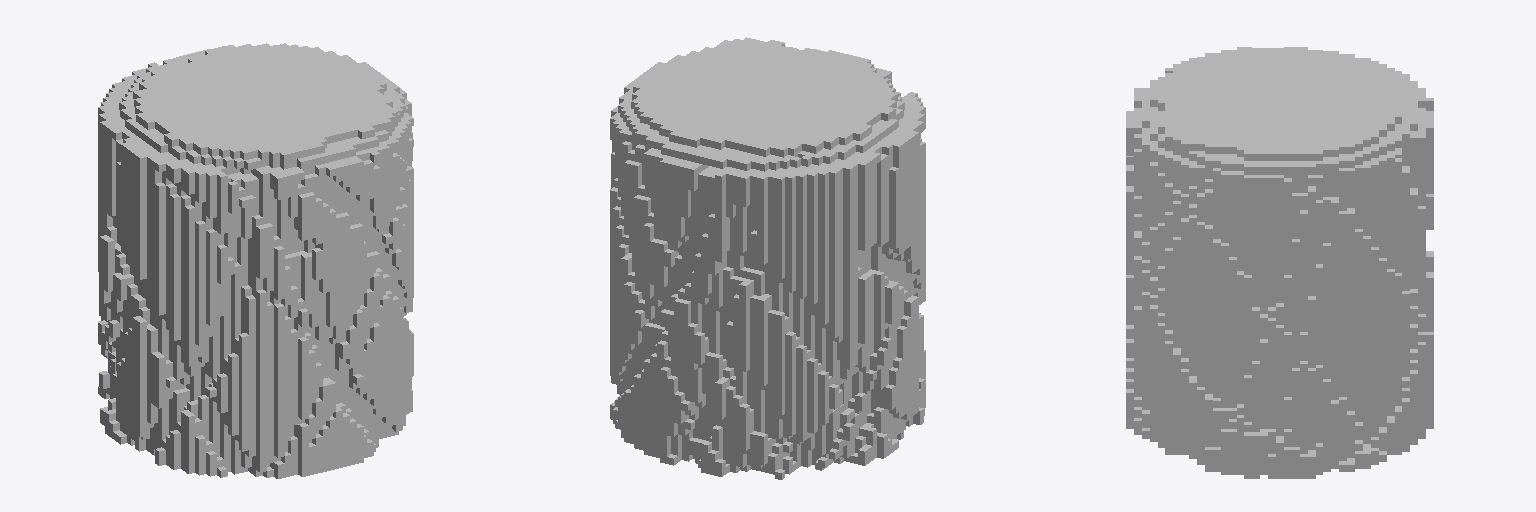
Rendered from trunk.obj.
3 renders of one model, left to right at view 1: azimuth 30°, elevation 25°; view 2: azimuth 150°, elevation 25°; view 3: azimuth 270°, elevation 25°, orthographic.
Size of the model in its own units: 39 by 44 by 39.